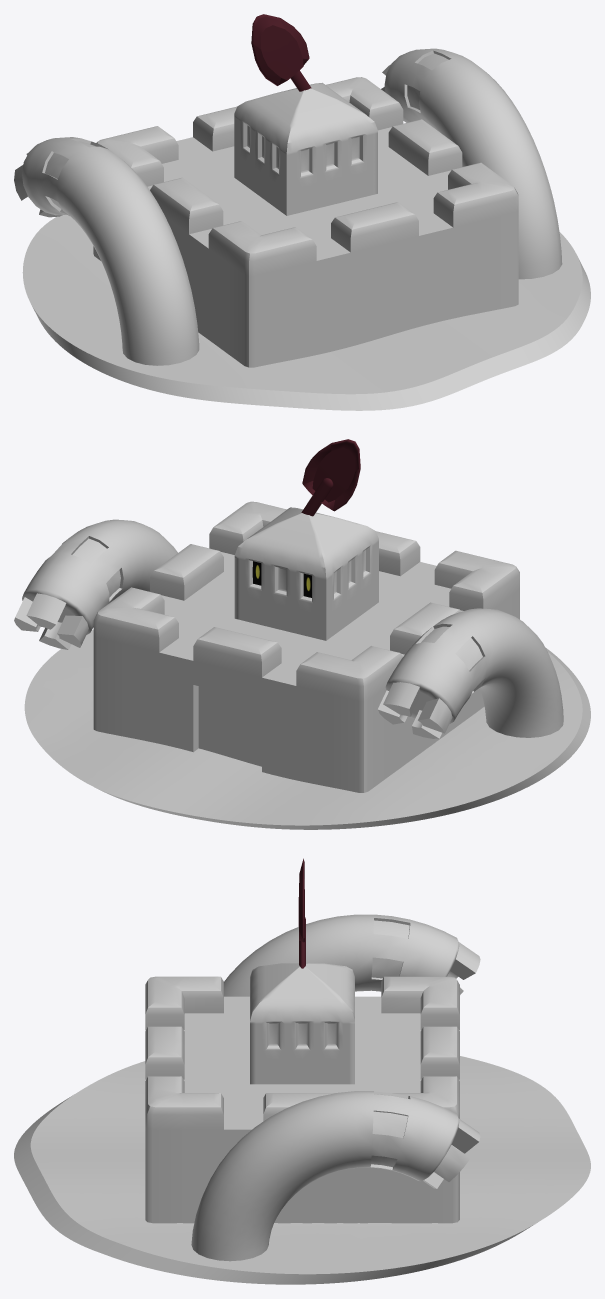
The model's file is Wk6a_Castle_FBX_Fulbright_Veronica.fbx.
3 views of the same model, one above another, from view 1: azimuth 30°, elevation 25°; view 2: azimuth 150°, elevation 25°; view 3: azimuth 270°, elevation 25° (orthographic).
Parts seen in each view (by area): view 1: Base, Sand, Pillar_Arms, Roof, Shovel; view 2: Base, Sand, Pillar_Arms, Roof, Shovel; view 3: Sand, Base, Pillar_Arms, Roof, Shovel.
Part boxes in pixels (left/top/right/bottom): Base: left=93, top=77, right=518, bottom=367; Sand: left=22, top=215, right=590, bottom=410; Pillar_Arms: left=14, top=48, right=562, bottom=365; Roof: left=234, top=82, right=377, bottom=215; Shovel: left=251, top=14, right=311, bottom=91; Base: left=93, top=501, right=519, bottom=792; Sand: left=24, top=629, right=590, bottom=829; Pillar_Arms: left=14, top=519, right=563, bottom=738; Roof: left=234, top=507, right=378, bottom=640; Shovel: left=301, top=439, right=360, bottom=516; Sand: left=14, top=1056, right=590, bottom=1284; Base: left=145, top=976, right=459, bottom=1223; Pillar_Arms: left=191, top=914, right=480, bottom=1261; Roof: left=250, top=963, right=354, bottom=1084; Shovel: left=298, top=858, right=305, bottom=968.
Size of the model in its own units: 26.52 by 15.06 by 27.51.
